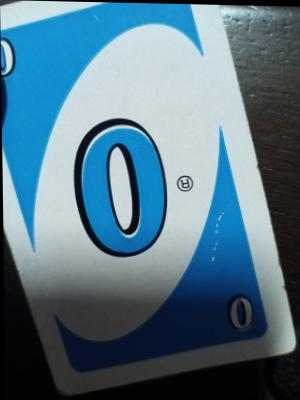blue: (17, 30, 250, 339)
num_0: (226, 290, 256, 333)
